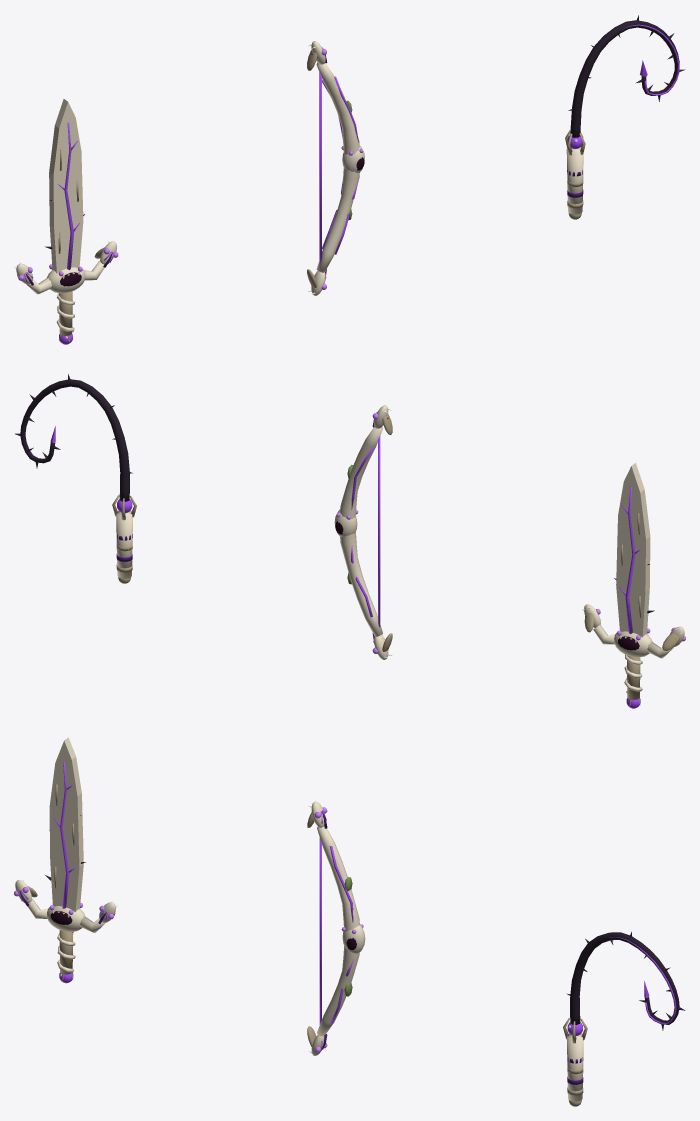
File: equipements-ancestral.glb
The picture shows the model from 3 angles, top to bottom: view 1: azimuth 30°, elevation 25°; view 2: azimuth 150°, elevation 25°; view 3: azimuth 330°, elevation 25°; orthographic projection.
Visible parts, largest first — view 1: lame, arc, laniere, manche, corde, lame_fente, garde; view 2: lame, arc, laniere, manche, corde, lame_fente.004, garde; view 3: lame, arc, laniere, manche.
Boxes of the visible parts, x1,y1,x2,y2 form: lame: [49, 99, 83, 273]; arc: [316, 62, 359, 272]; laniere: [570, 20, 679, 137]; manche: [566, 147, 583, 214]; corde: [319, 72, 321, 262]; lame_fente: [64, 122, 73, 270]; garde: [47, 267, 85, 293]; lame: [616, 463, 650, 637]; arc: [340, 427, 382, 636]; laniere: [20, 379, 129, 501]; manche: [116, 511, 132, 578]; corde: [378, 436, 380, 627]; lame_fente.004: [625, 487, 635, 633]; garde: [614, 631, 652, 657]; lame: [49, 737, 83, 911]; arc: [317, 826, 359, 1036]; laniere: [570, 932, 679, 1024]; manche: [567, 1034, 583, 1101].
Size of the model in its own units: 5.26 by 1.92 by 0.1858.
